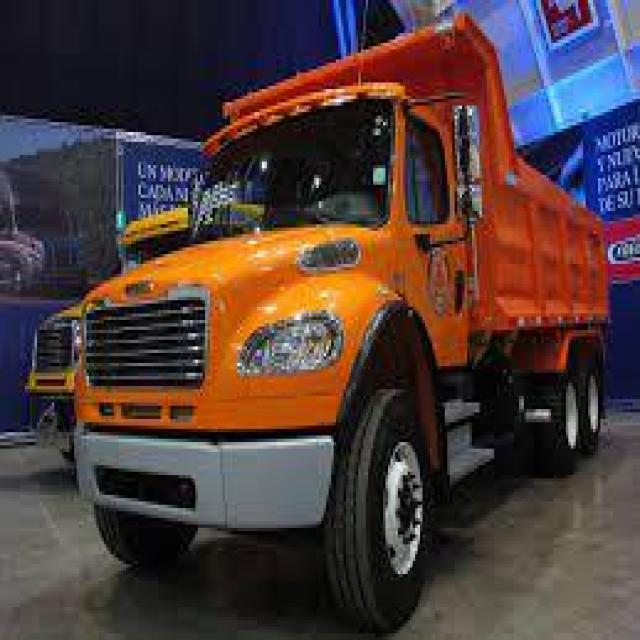dump_truck: (51, 19, 624, 634)
